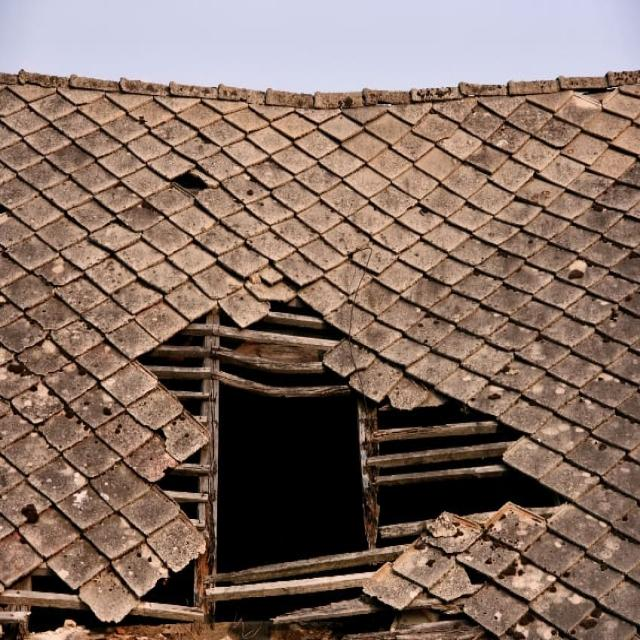damaged_roof: (139, 283, 566, 639), (2, 548, 137, 638)
